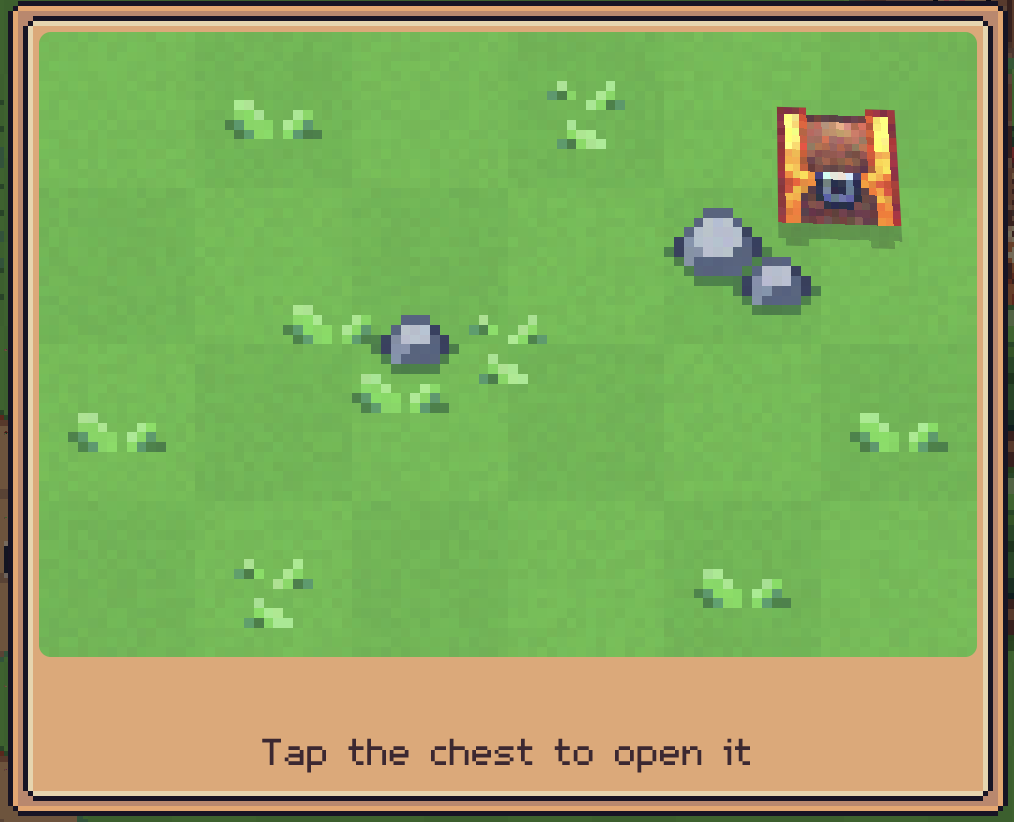capcha_chest: (773, 103, 903, 229)
